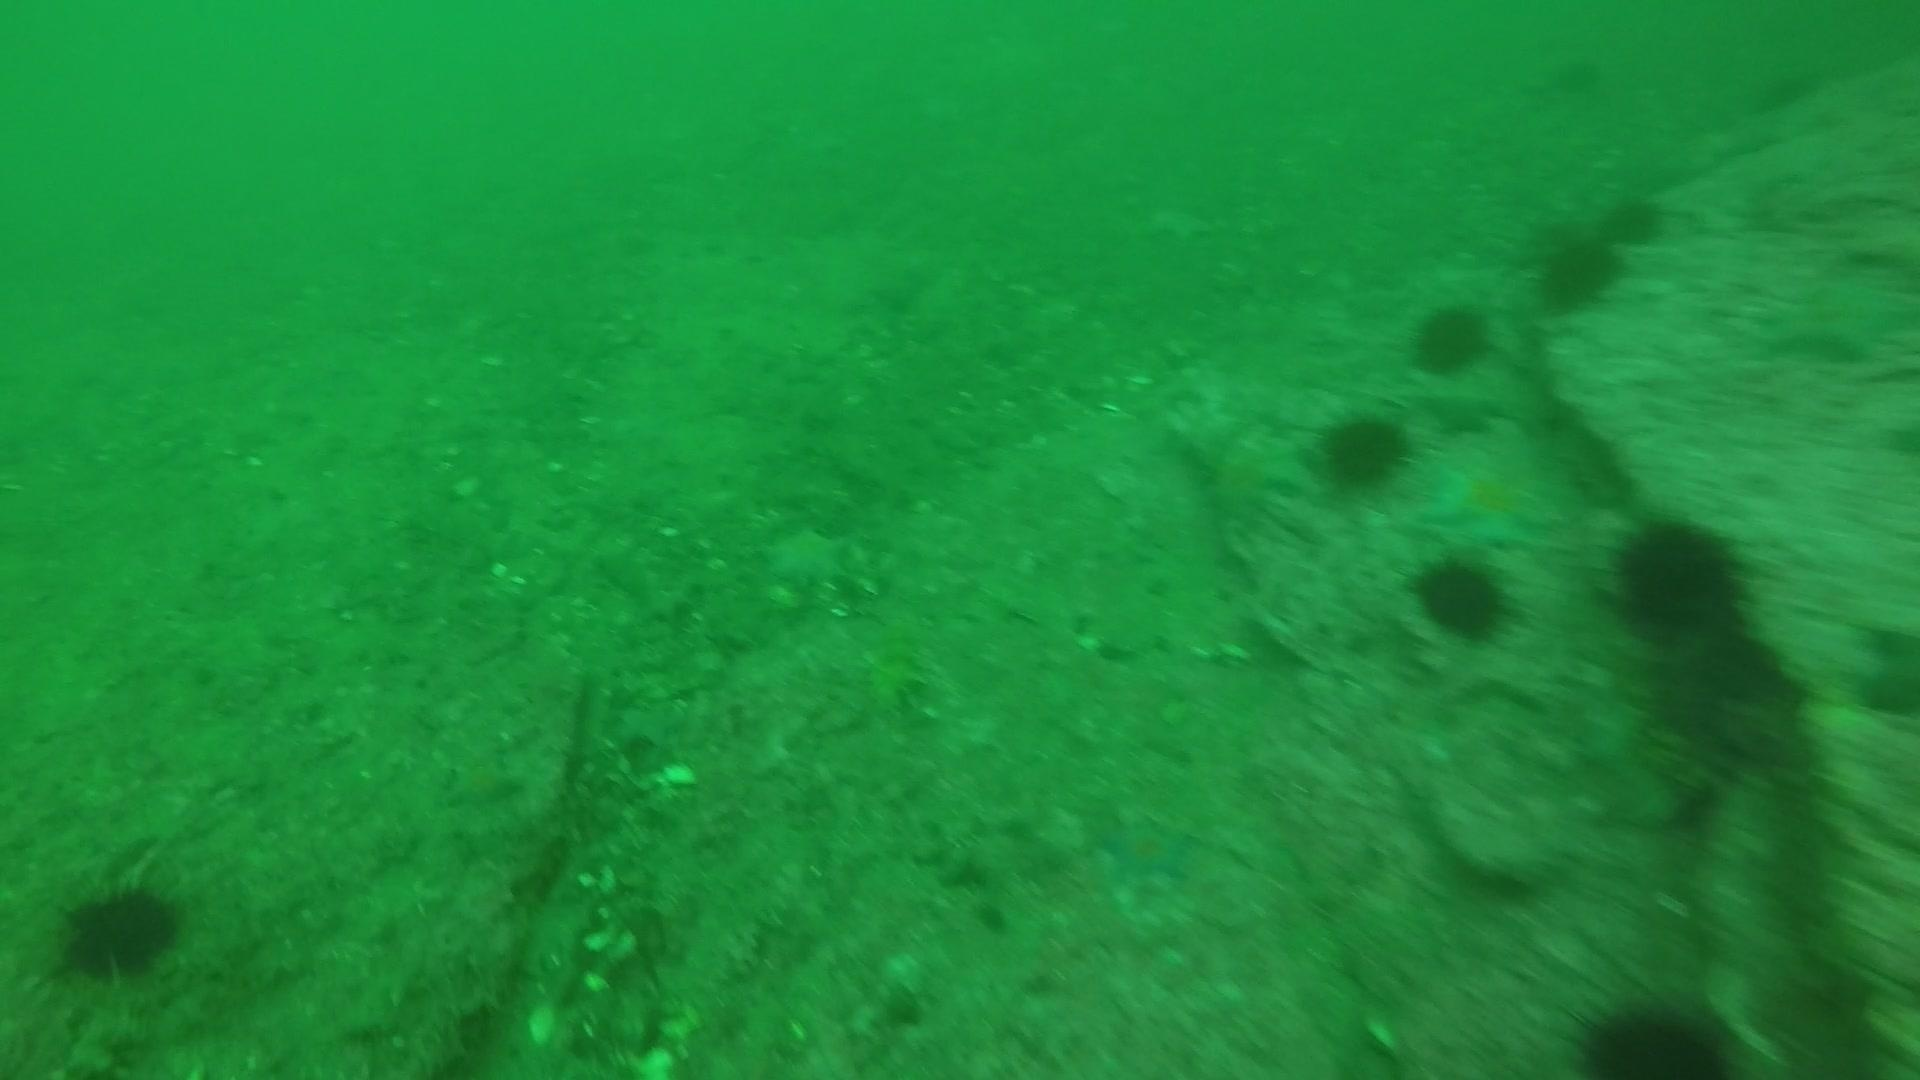echinus: (1605, 510, 1750, 637), (51, 872, 187, 984), (1567, 996, 1741, 1077), (1407, 550, 1515, 645), (1311, 405, 1416, 495), (1530, 223, 1627, 314), (1406, 297, 1494, 378), (1596, 189, 1669, 252)
starfish: (1164, 402, 1302, 542), (1753, 262, 1915, 369), (1419, 456, 1555, 550), (1092, 803, 1200, 891), (758, 518, 861, 597), (855, 626, 938, 721), (436, 744, 527, 814)
